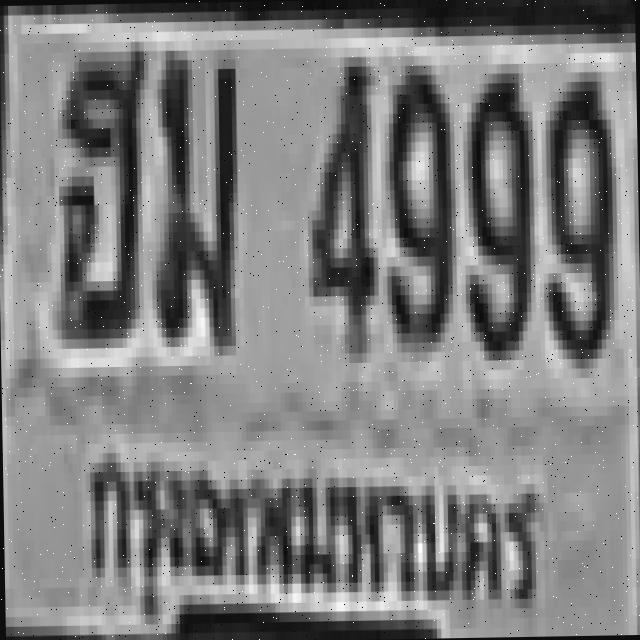4: (304, 47, 370, 344)
42MorMa: (147, 40, 235, 337)
53HorNokHook: (49, 36, 146, 334)
9: (540, 62, 610, 359), (379, 55, 449, 343), (462, 63, 532, 351)
Bangkok: (76, 423, 543, 626)
